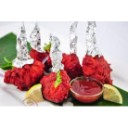chicken_lollipop: (77, 19, 118, 83), (9, 21, 45, 87), (46, 32, 70, 106), (64, 21, 81, 75)
